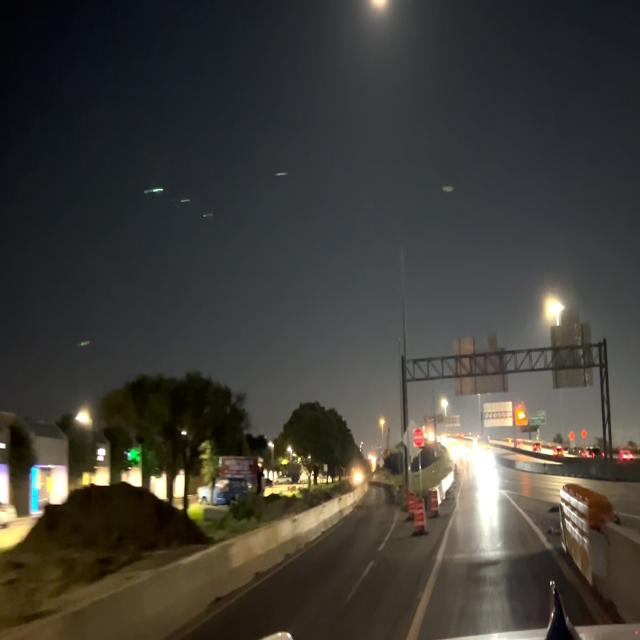back-of-sign: (549, 301, 597, 395), (449, 329, 511, 399), (484, 401, 513, 430), (442, 412, 463, 431)
